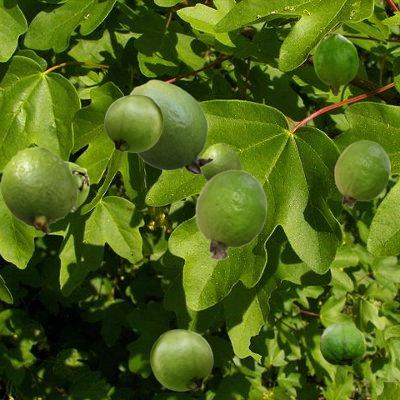guava: (130, 79, 212, 173), (0, 146, 76, 232), (195, 169, 266, 259), (150, 329, 212, 390), (334, 140, 389, 206), (104, 94, 162, 151), (313, 33, 357, 95), (319, 322, 365, 365), (201, 143, 240, 180), (67, 161, 88, 207)
